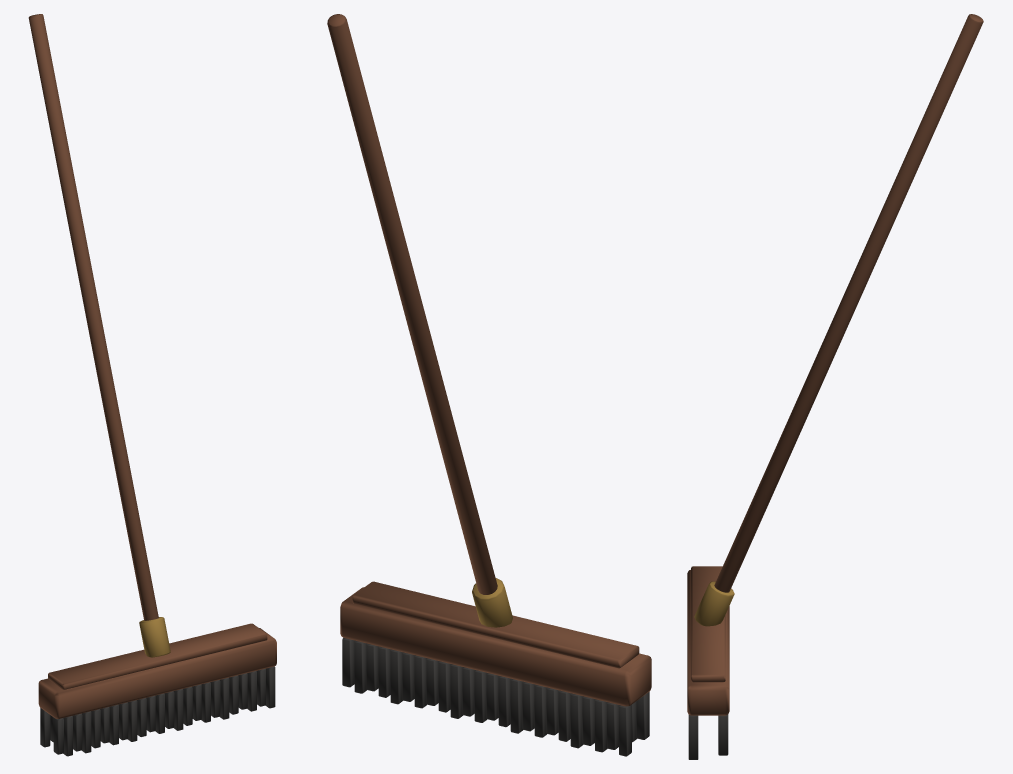
Rendered from asset_074_broom.glb.
3 renders of one model, left to right at view 1: azimuth 30°, elevation 25°; view 2: azimuth 150°, elevation 25°; view 3: azimuth 270°, elevation 25°, orthographic. The views are drawn at different scales.
Parts seen in each view (by area): view 1: MESH_BroomHandle, MESH_BroomBristles, MESH_BroomBlock, MESH_BroomBlockCap, MESH_BroomFerrule; view 2: MESH_BroomBristles, MESH_BroomHandle, MESH_BroomBlock, MESH_BroomBlockCap, MESH_BroomFerrule; view 3: MESH_BroomHandle, MESH_BroomBlockCap, MESH_BroomBlock, MESH_BroomFerrule, MESH_BroomBristles.
Boxes of the visible parts, x1=… form: MESH_BroomHandle: x1=28, y1=14, x2=158, y2=620; MESH_BroomBristles: x1=40, y1=666, x2=275, y2=756; MESH_BroomBlock: x1=38, y1=628, x2=276, y2=718; MESH_BroomBlockCap: x1=48, y1=623, x2=267, y2=689; MESH_BroomFerrule: x1=139, y1=617, x2=170, y2=657; MESH_BroomBristles: x1=342, y1=638, x2=649, y2=756; MESH_BroomHandle: x1=327, y1=14, x2=497, y2=594; MESH_BroomBlock: x1=340, y1=587, x2=651, y2=706; MESH_BroomBlockCap: x1=352, y1=581, x2=639, y2=668; MESH_BroomFerrule: x1=472, y1=578, x2=512, y2=627; MESH_BroomHandle: x1=714, y1=14, x2=983, y2=592; MESH_BroomBlockCap: x1=691, y1=566, x2=725, y2=682; MESH_BroomBlock: x1=687, y1=570, x2=729, y2=715; MESH_BroomFerrule: x1=694, y1=581, x2=734, y2=626; MESH_BroomBristles: x1=688, y1=714, x2=728, y2=759.
Bounding box in the file's own units: 0.52 × 1.4 × 0.5812.
